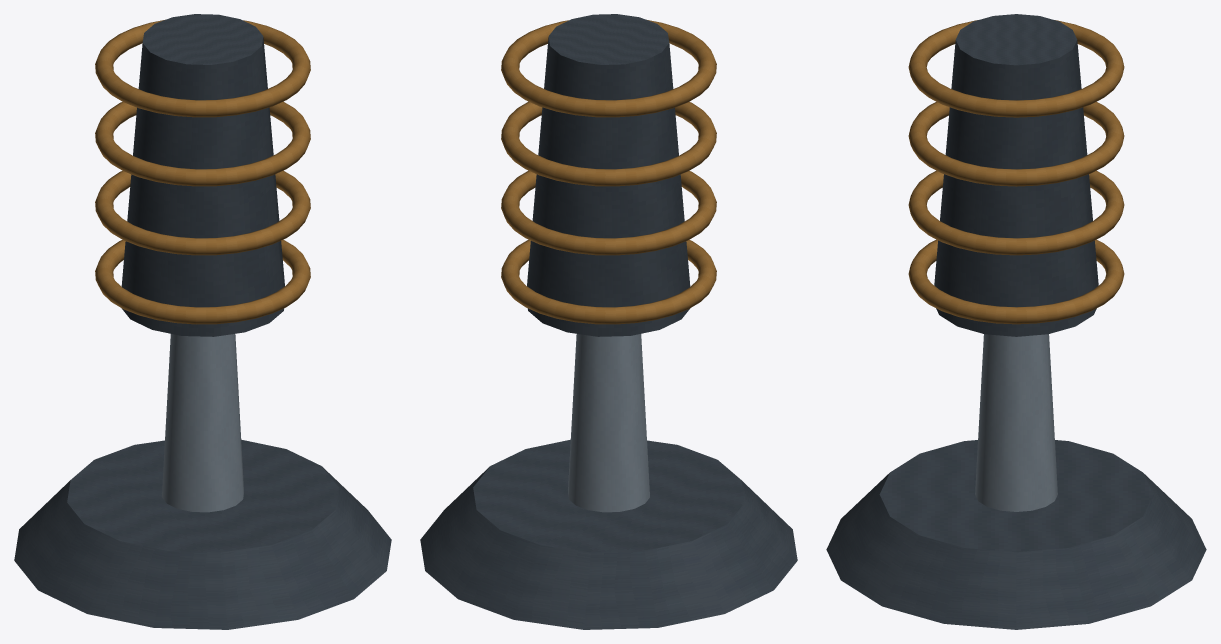
The model's file is sentry-node.lod1.glb.
3 renders of one model, left to right at view 1: azimuth 30°, elevation 25°; view 2: azimuth 150°, elevation 25°; view 3: azimuth 270°, elevation 25°, orthographic.
Parts seen in each view (by area): view 1: iron.0, iron.2, steel.1, brass.6, brass.5, brass.4, brass.3; view 2: iron.0, iron.2, steel.1, brass.6, brass.5, brass.4, brass.3; view 3: iron.0, iron.2, steel.1, brass.6, brass.5, brass.4, brass.3.
Part boxes in pixels (bbox=[...]): iron.0: bbox=[14, 439, 391, 629]; iron.2: bbox=[121, 14, 284, 336]; steel.1: bbox=[162, 334, 243, 512]; brass.6: bbox=[95, 19, 310, 117]; brass.5: bbox=[95, 101, 310, 186]; brass.4: bbox=[95, 170, 310, 255]; brass.3: bbox=[95, 239, 310, 324]; iron.0: bbox=[420, 439, 797, 629]; iron.2: bbox=[527, 14, 690, 336]; steel.1: bbox=[568, 334, 649, 512]; brass.6: bbox=[501, 19, 716, 117]; brass.5: bbox=[501, 101, 716, 186]; brass.4: bbox=[501, 170, 716, 255]; brass.3: bbox=[501, 239, 716, 324]; iron.0: bbox=[826, 440, 1206, 629]; iron.2: bbox=[934, 14, 1098, 336]; steel.1: bbox=[975, 334, 1057, 511]; brass.6: bbox=[908, 20, 1124, 117]; brass.5: bbox=[908, 102, 1124, 186]; brass.4: bbox=[908, 170, 1124, 255]; brass.3: bbox=[908, 239, 1124, 324].
Bounding box in the file's own units: 0.5 × 0.74 × 0.5.
3 materials, 3 textured.
